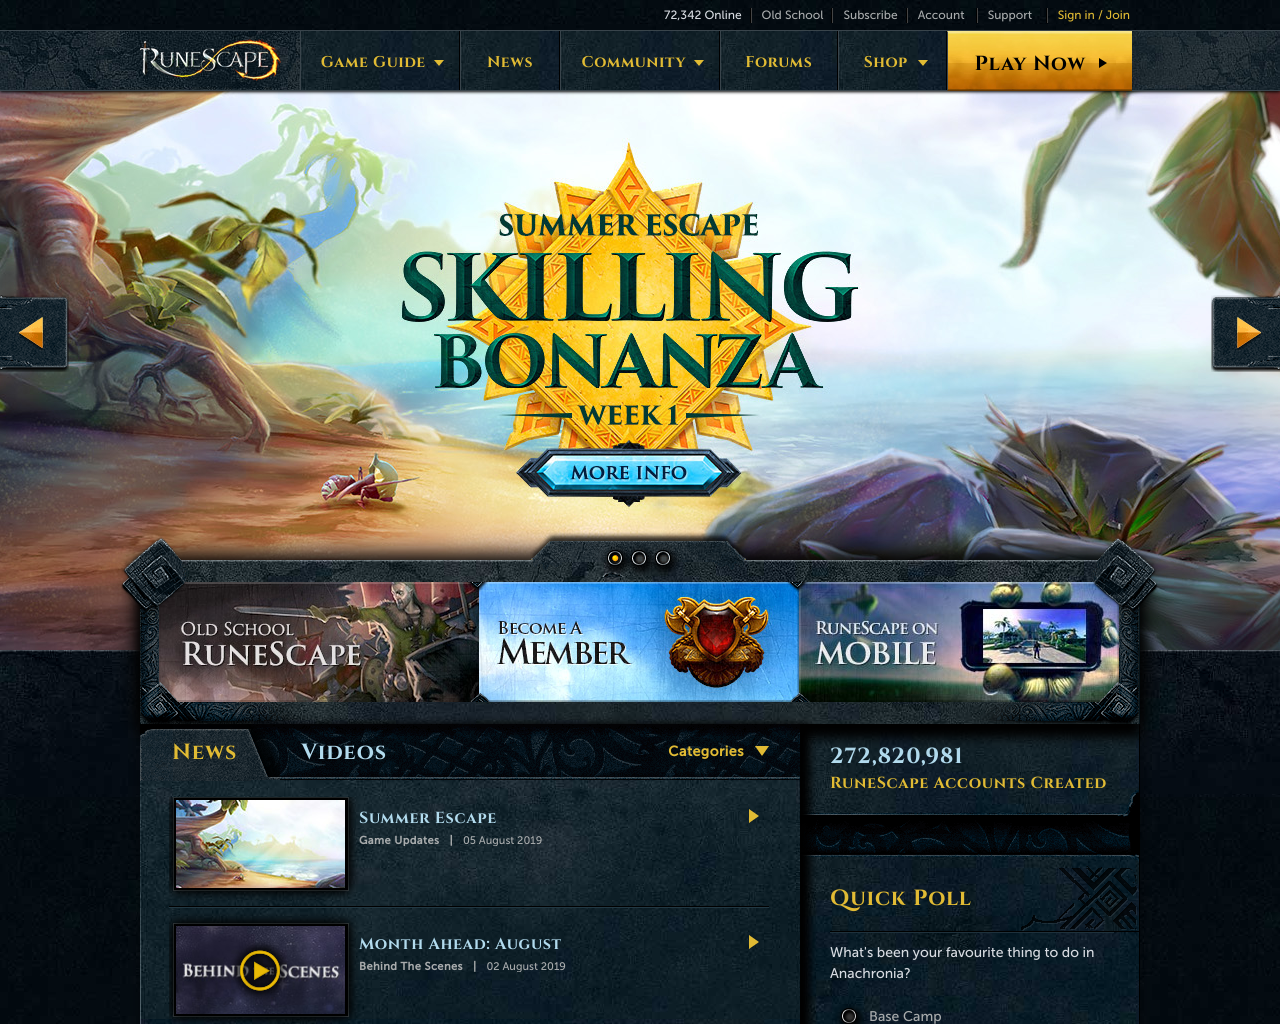Runescape: (134, 38, 285, 85)
